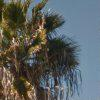Palm tree: (2, 1, 77, 99)
